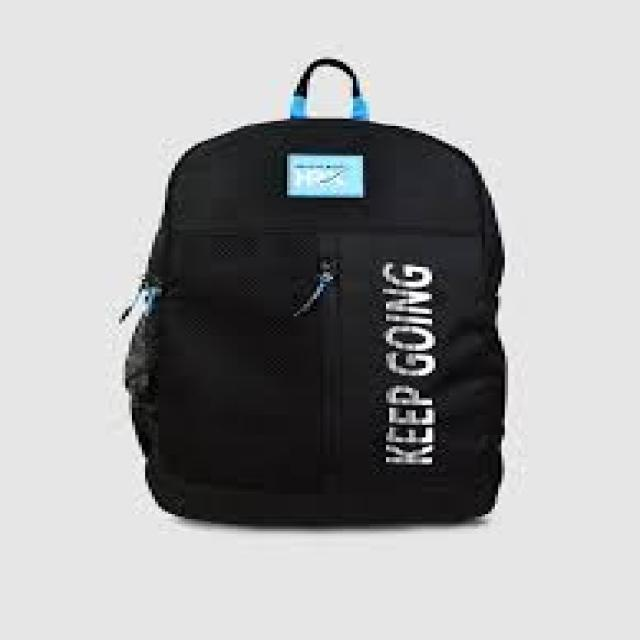backpack: (119, 57, 508, 526)
